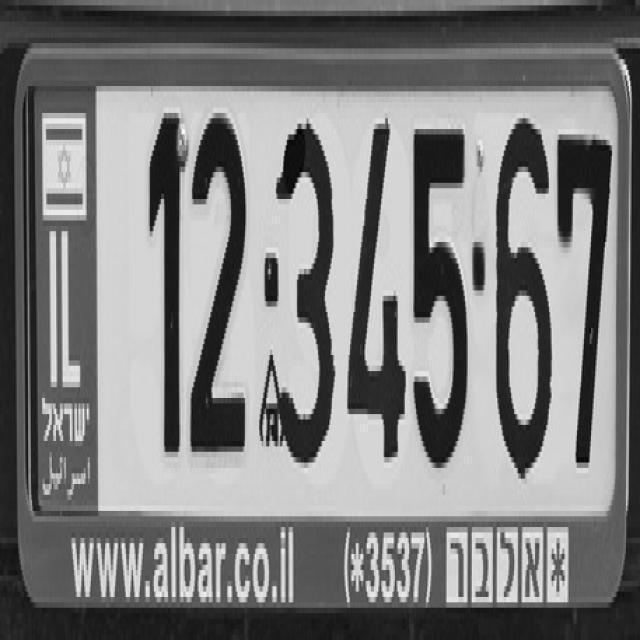License Plate: (9, 2, 638, 630)
